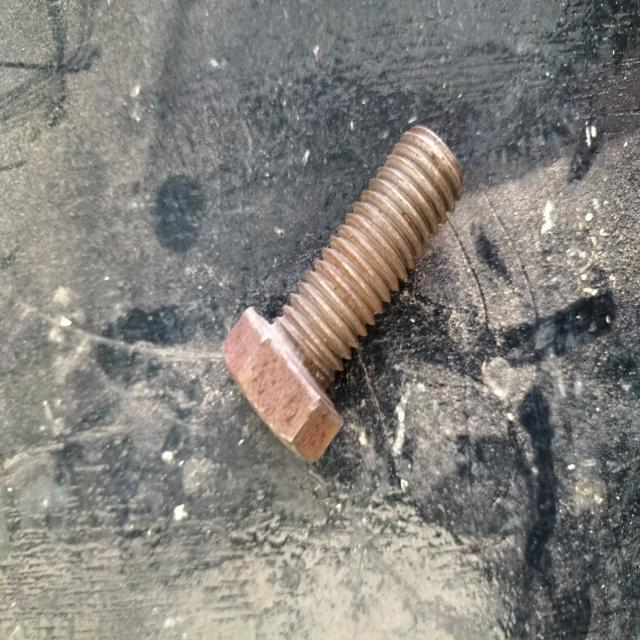bolt: (222, 124, 462, 462)
